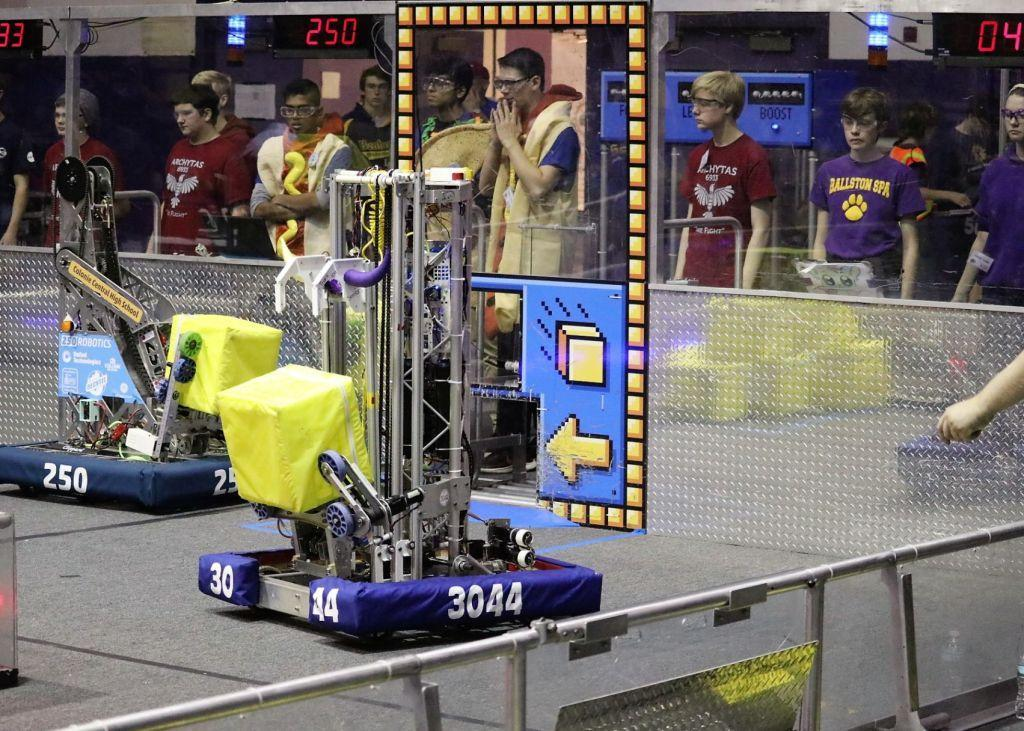robot: (197, 160, 610, 650), (0, 148, 288, 514)
